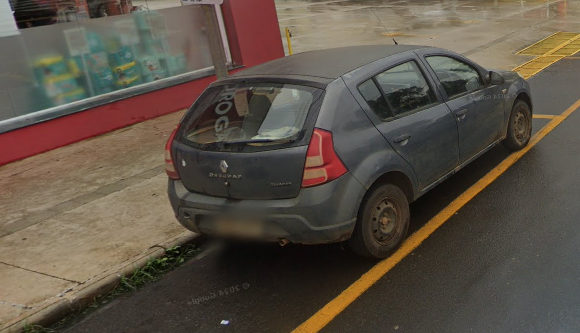car: (160, 6, 537, 265)
